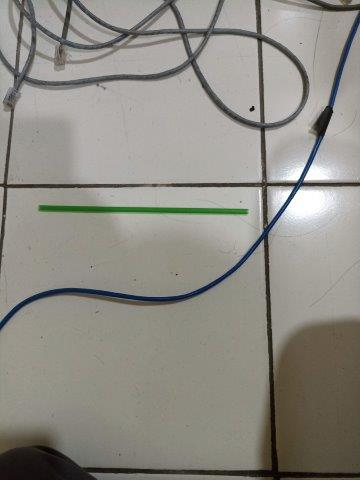sedotan: (38, 204, 249, 215)
